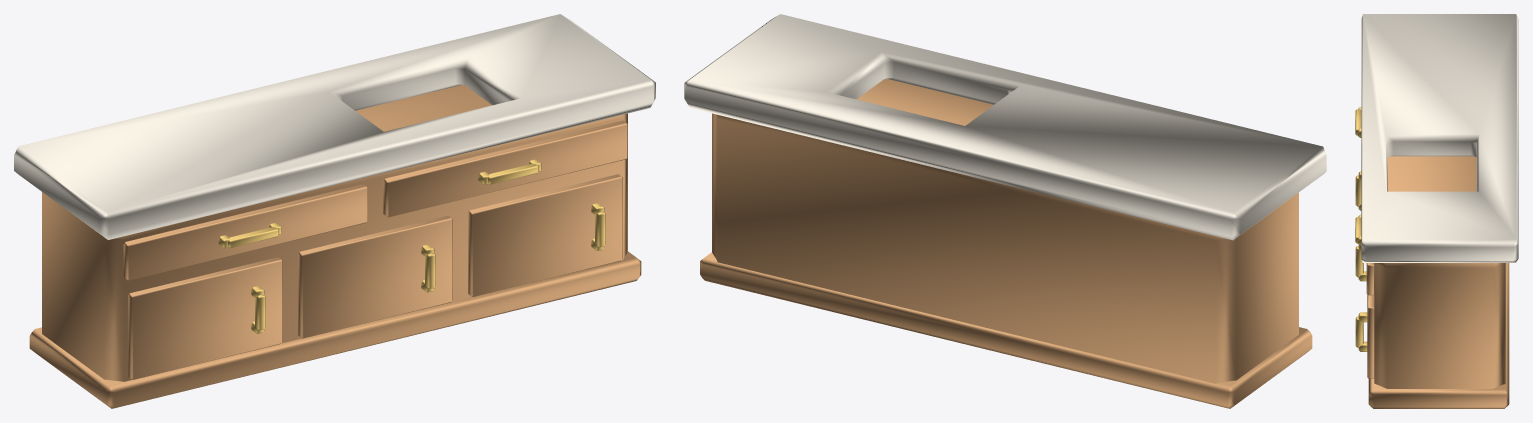
Rendered from kitchen_counter.glb.
3 views of the same model, side by side, from view 1: azimuth 30°, elevation 25°; view 2: azimuth 150°, elevation 25°; view 3: azimuth 270°, elevation 25° (orthographic). The views are drawn at different scales.
Parts seen in each view (by area): view 1: CounterWood, CounterTop, CounterMetal; view 2: CounterWood, CounterTop; view 3: CounterTop, CounterWood, CounterMetal.
Boxes of the visible parts, bbox=[...] form: CounterWood: bbox=[29, 85, 641, 408]; CounterTop: bbox=[14, 14, 655, 239]; CounterMetal: bbox=[218, 159, 605, 333]; CounterWood: bbox=[700, 79, 1312, 408]; CounterTop: bbox=[684, 14, 1326, 240]; CounterTop: bbox=[1361, 14, 1518, 262]; CounterWood: bbox=[1366, 156, 1509, 408]; CounterMetal: bbox=[1355, 107, 1367, 351].
Bounding box in the file's own units: 10.4 × 3.64 × 3.11.
